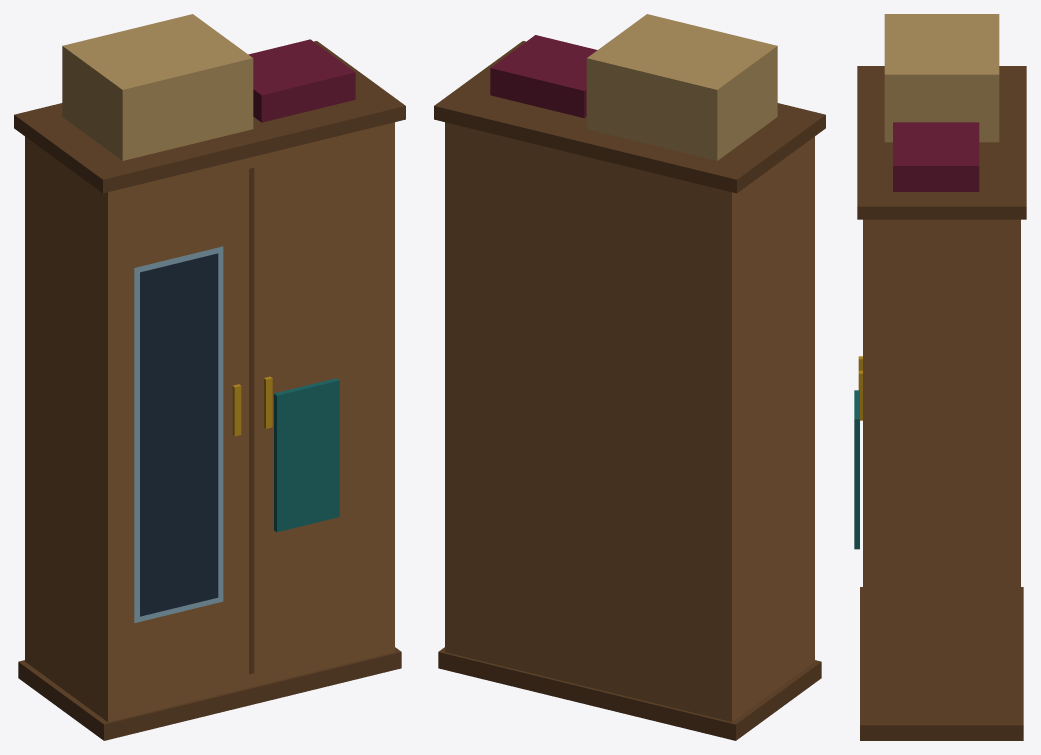
File: prop_wardrobe.be79c6770d15.glb
3 views of the same model, side by side, from view 1: azimuth 30°, elevation 25°; view 2: azimuth 150°, elevation 25°; view 3: azimuth 270°, elevation 25° (orthographic). The views are drawn at different scales.
Parts seen in each view (by area): view 1: body; view 2: body; view 3: body.
Boxes of the visible parts, x1,y1,x2,y2 form: body: [14, 14, 405, 740]; body: [434, 14, 825, 740]; body: [854, 14, 1026, 740].
Size of the model in its own units: 1.16 by 2.32 by 0.6.
